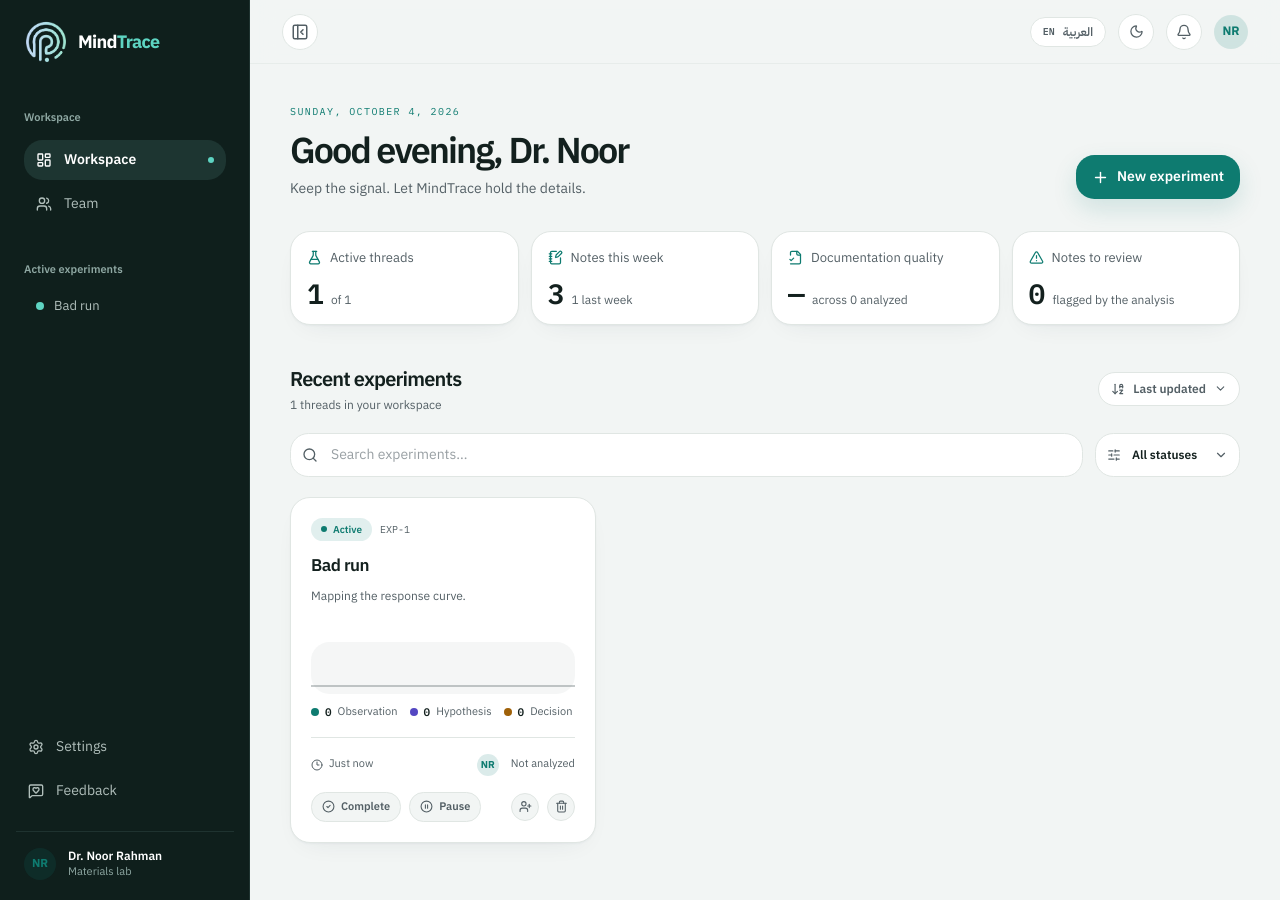
delete experiment › the owner confirms, then the experiment is deleted and gone from the list
Click the button with test id "button-delete-7" at (561, 807), box x1=547 y1=793 x2=575 y2=821
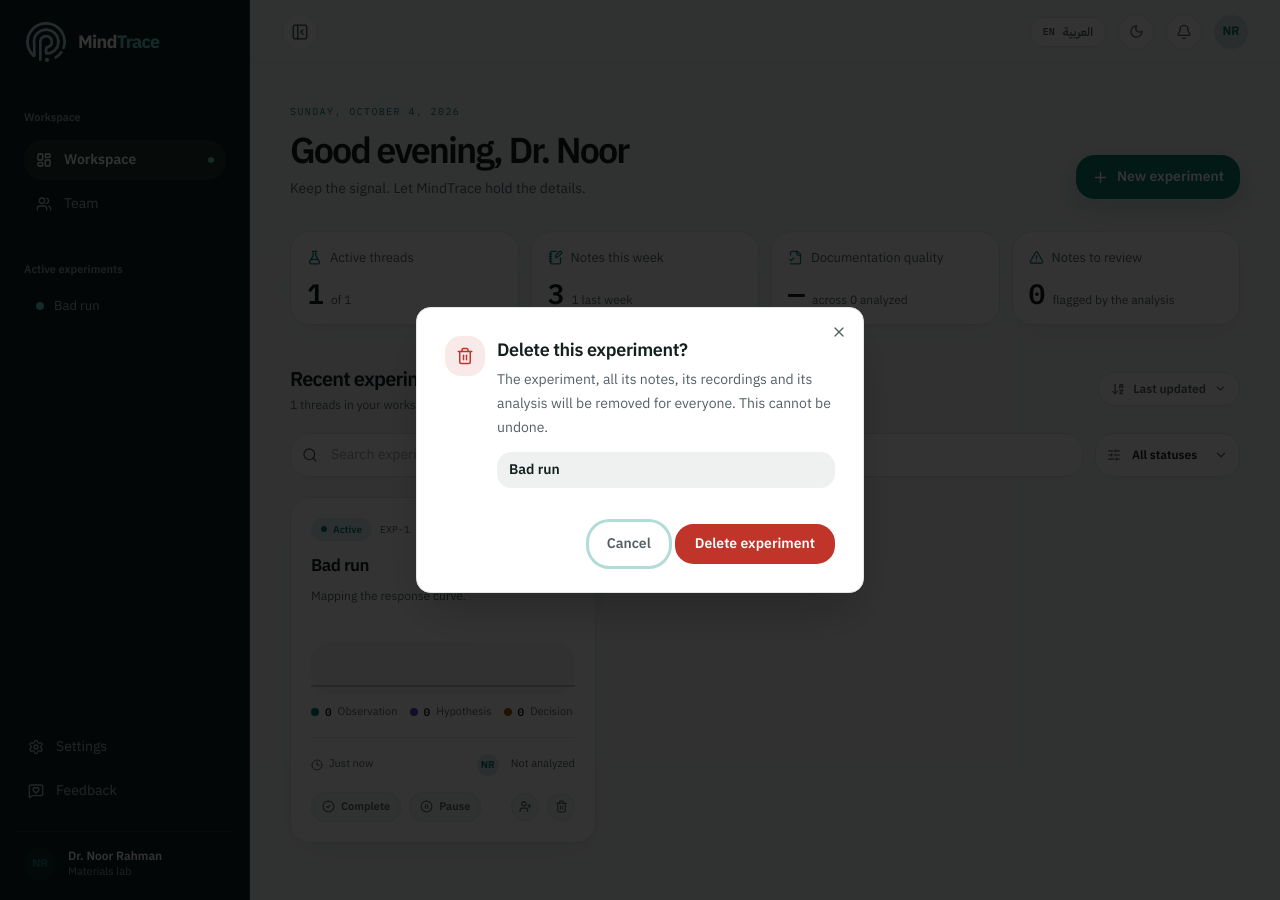
Expected: the dialog with test id "dialog-delete-experiment" shows "Bad run", x1=509 y1=459 x2=560 y2=480
Click the button with test id "button-confirm-delete" at (755, 544), box x1=675 y1=524 x2=835 y2=564
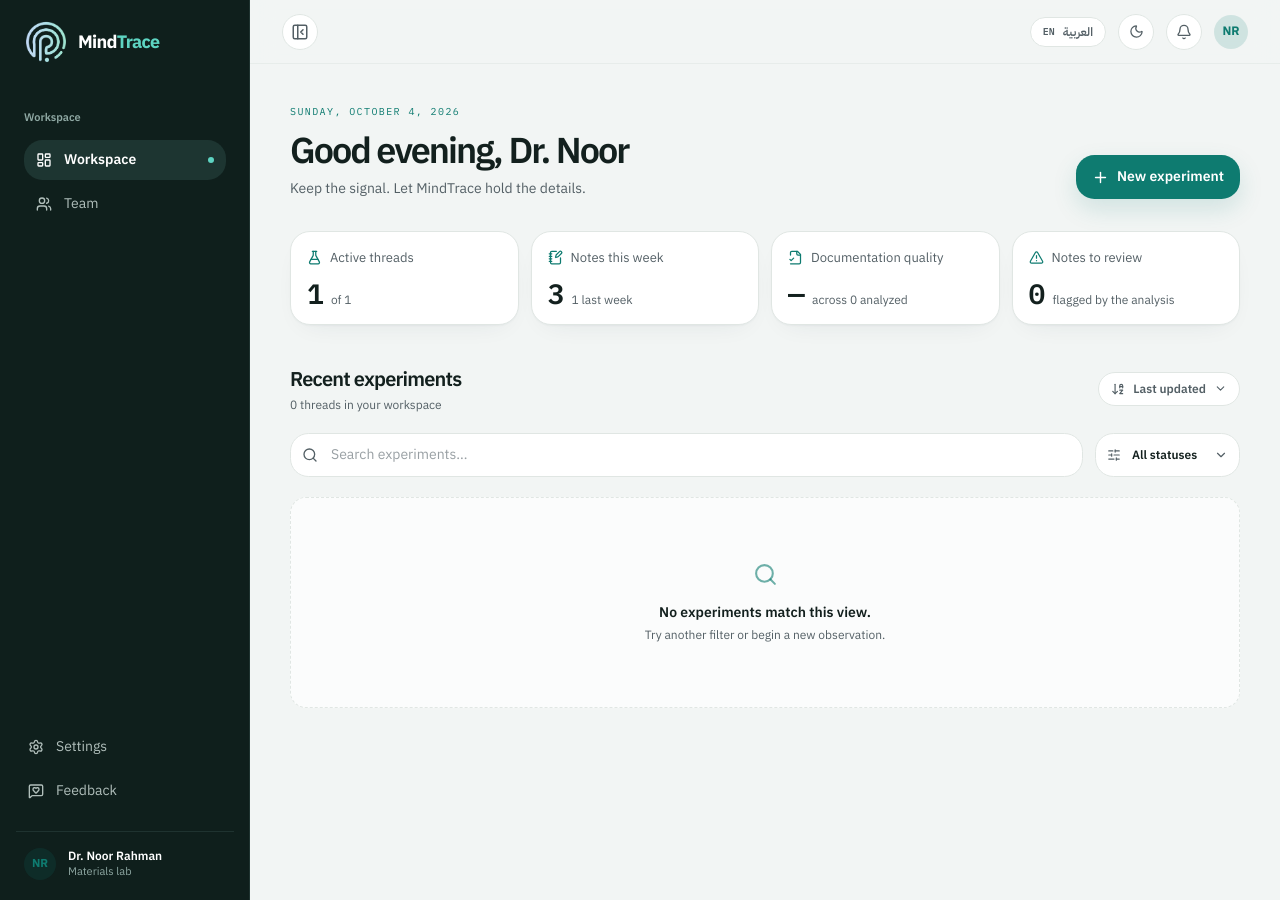
Expected: the element with test id "card-experiment-7" is gone
